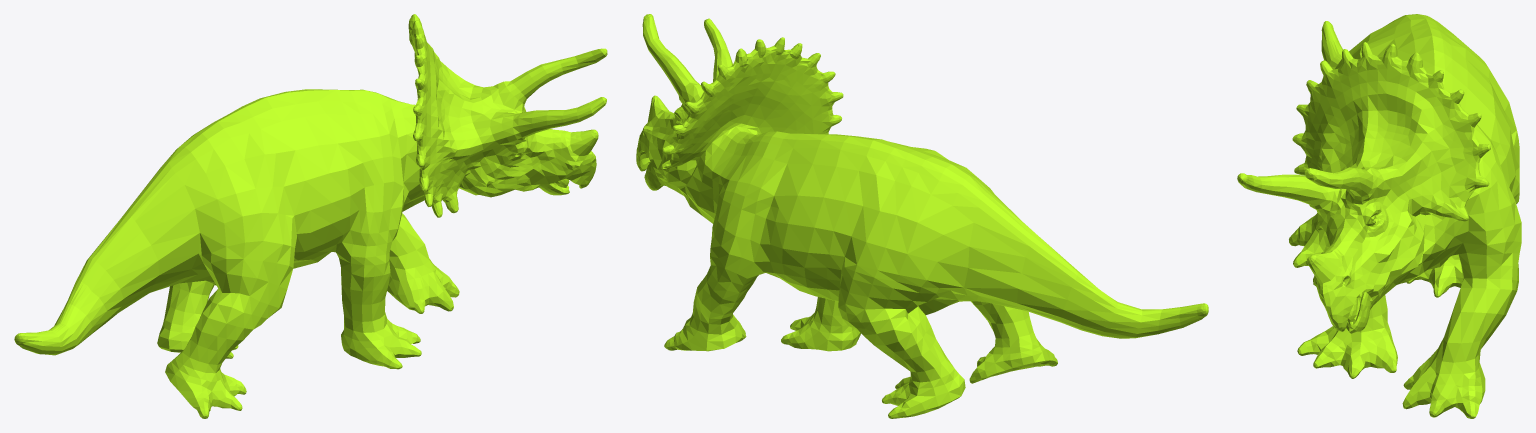
Rendered from Trice.obj.
The picture shows the model from 3 angles, left to right: view 1: azimuth 30°, elevation 25°; view 2: azimuth 150°, elevation 25°; view 3: azimuth 270°, elevation 25°; orthographic projection. The views are drawn at different scales.
Visible parts, largest first — view 1: objdefault; view 2: objdefault; view 3: objdefault.
Part boxes in pixels (<box>): objdefault: <box>14,14,607,418</box>; objdefault: <box>636,14,1208,418</box>; objdefault: <box>1237,14,1521,418</box>.
Size of the model in its own units: 360 by 181 by 135.
